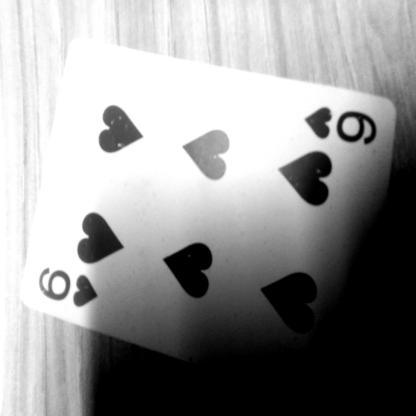6H: (288, 107, 397, 163), (30, 258, 108, 318)
